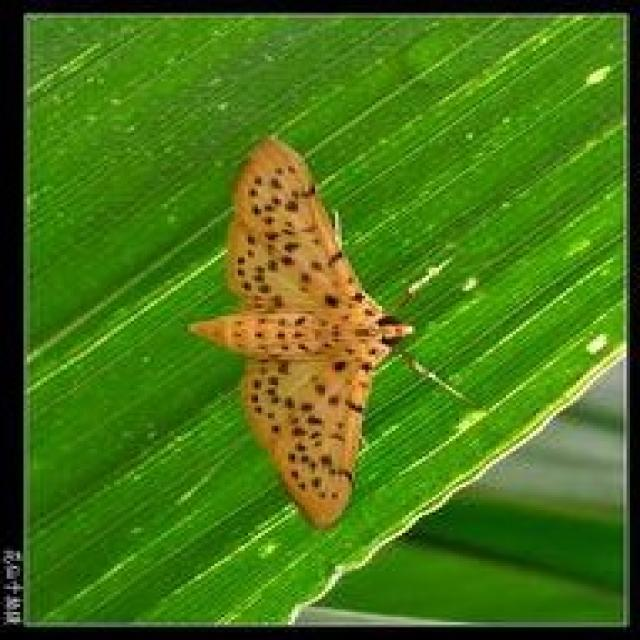peach borer: (189, 135, 430, 535)
